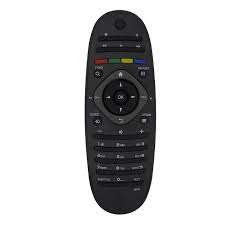remote control: (82, 5, 160, 218)
